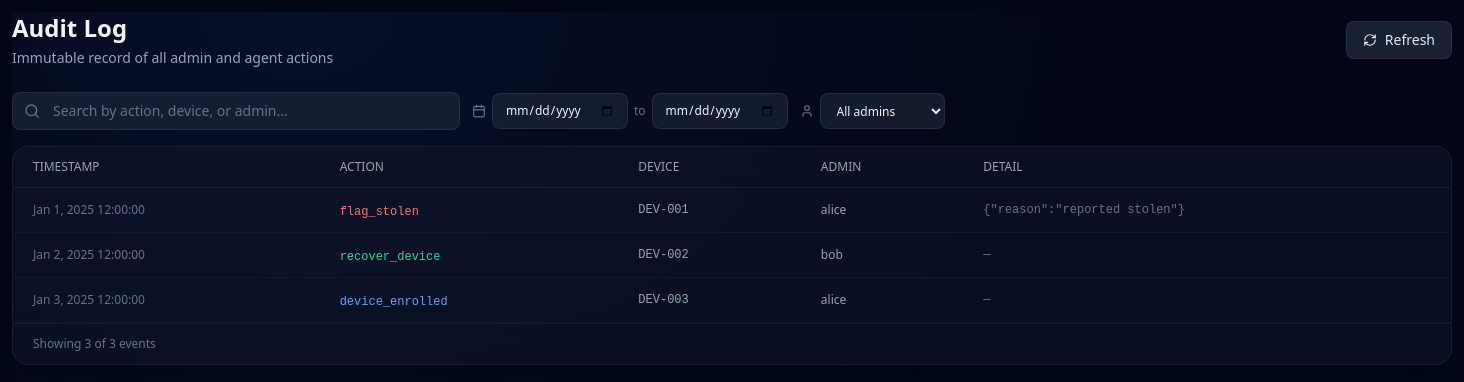
Scenario: AuditPage › filters logs by search text
Expected: the text "flag_stolen" is shown, [340, 205, 419, 219]
Type "flag_stolen" into the field with placeholder "Search by action, device, or admin…".
click(236, 111); type("flag_stolen")  # box [12, 92, 460, 130]
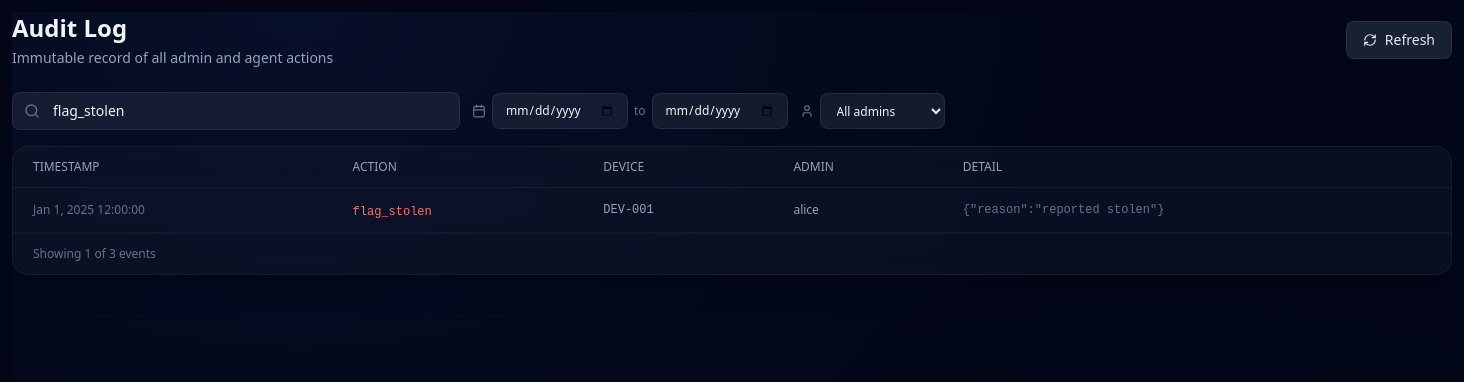
Expected: the text "flag_stolen" is shown, [352, 205, 432, 219]
Now the text "recover_device" is gone
